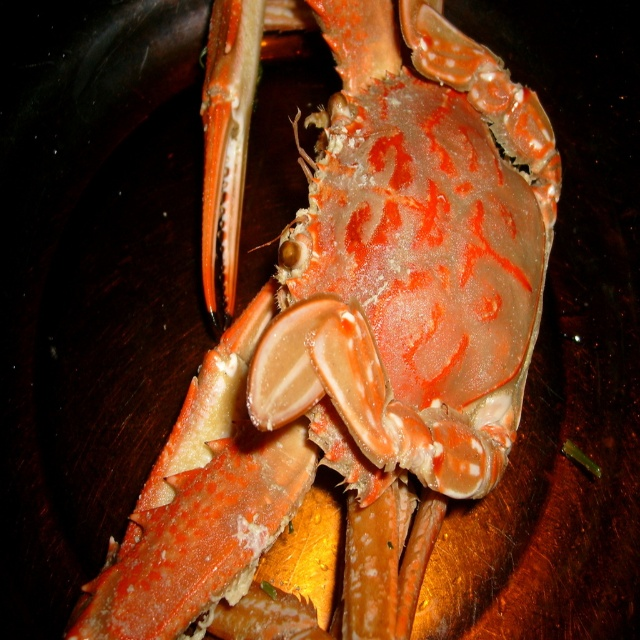Crab: (65, 0, 563, 640)
